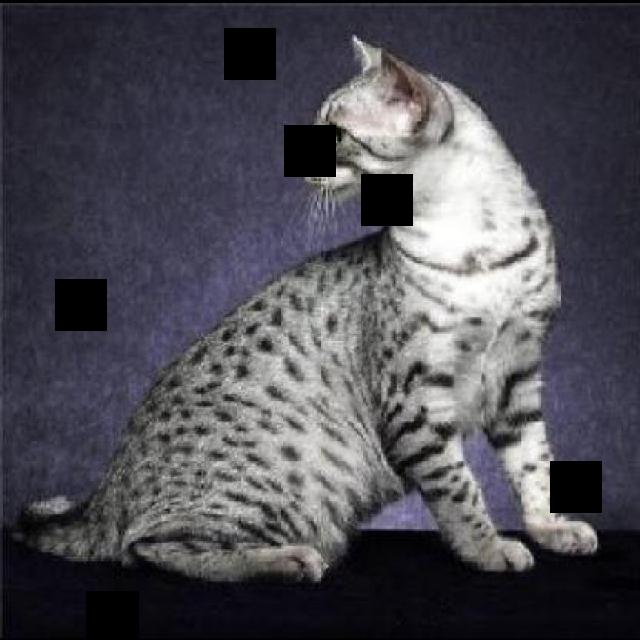unauthorized: (11, 32, 600, 585)
